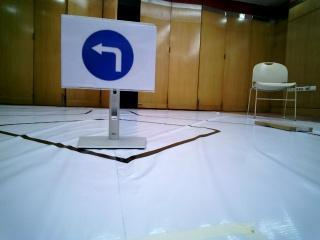left: (68, 16, 147, 85)
